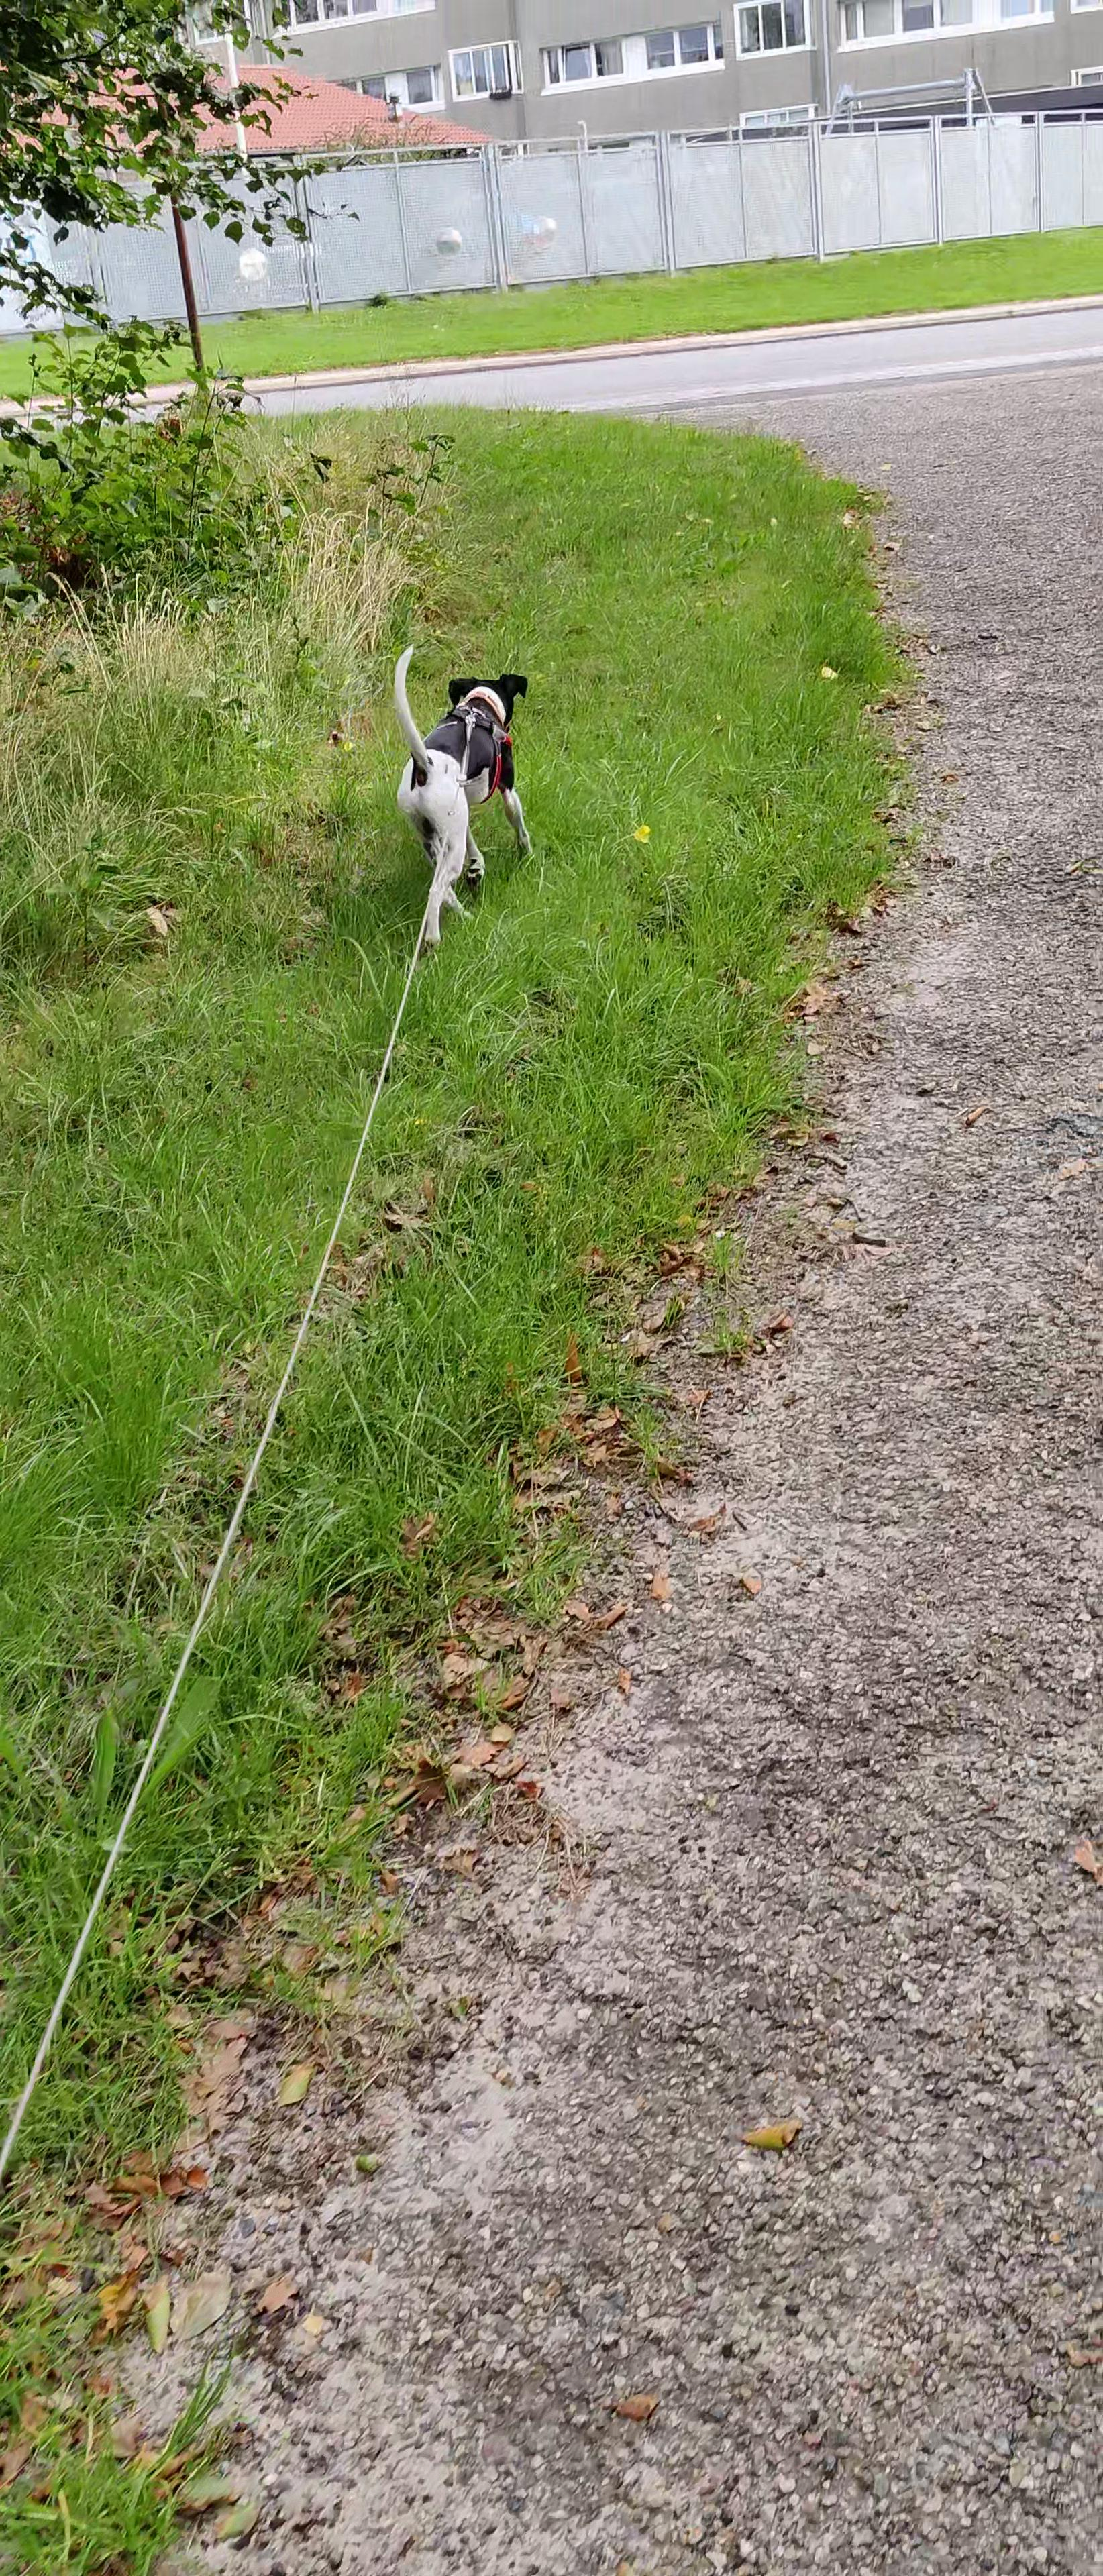Dog: (375, 636, 552, 966)
